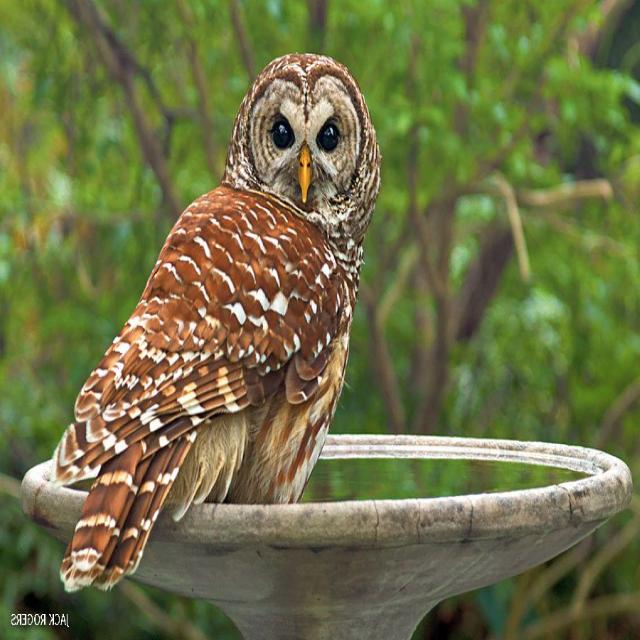owl: (51, 54, 381, 591)
